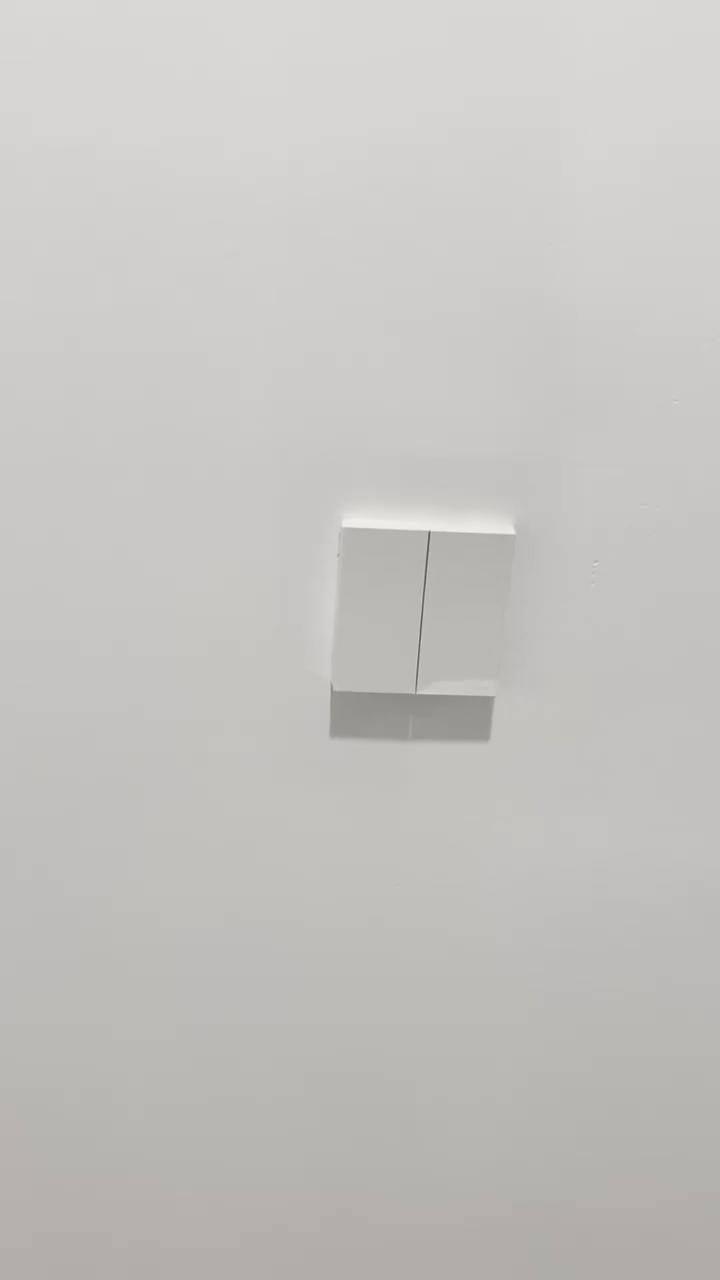button: (327, 517, 517, 705)
